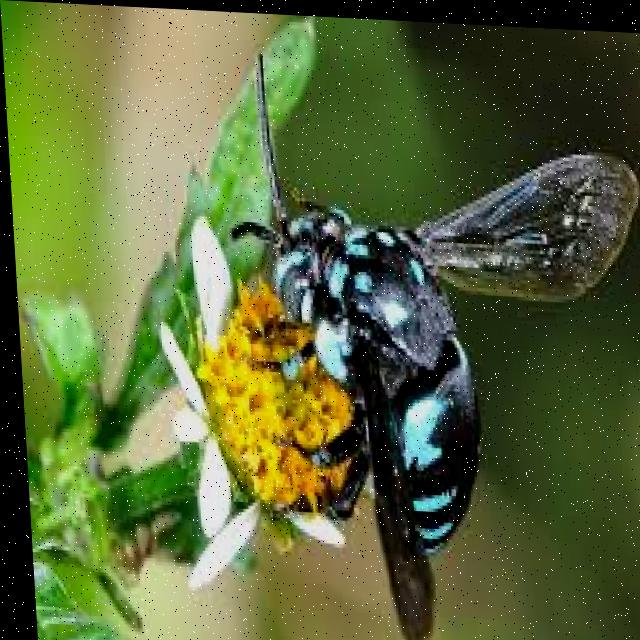Thyreus: (194, 22, 640, 625)
